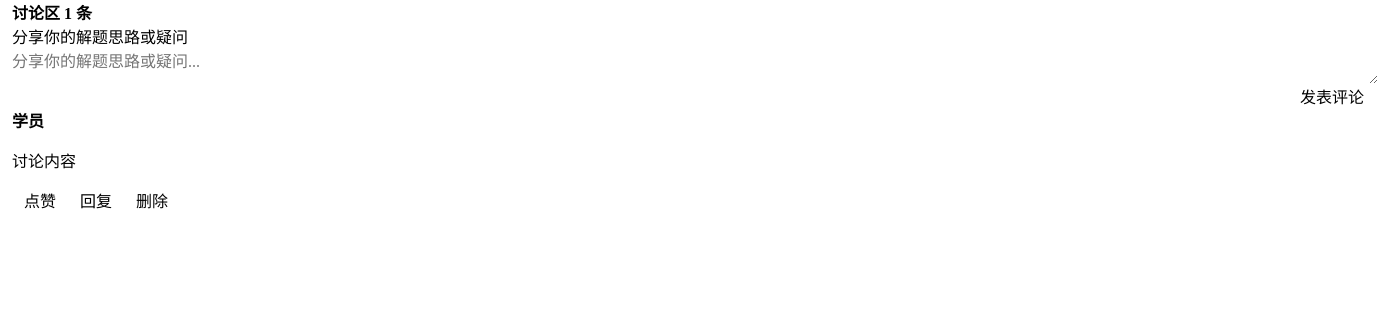
Scenario: CatalogTools › persists likes and waits for confirmation before deleting
Click the button "点赞": (40, 200) [12,188,68,212]
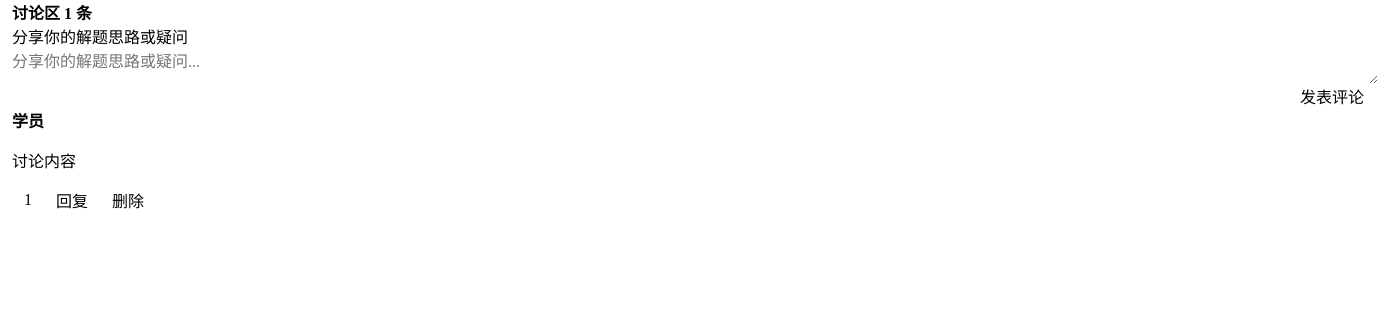
expect the button "1" is shown: met, box [12,191,44,209]
Click the button "删除": (128, 200) [100,188,156,212]
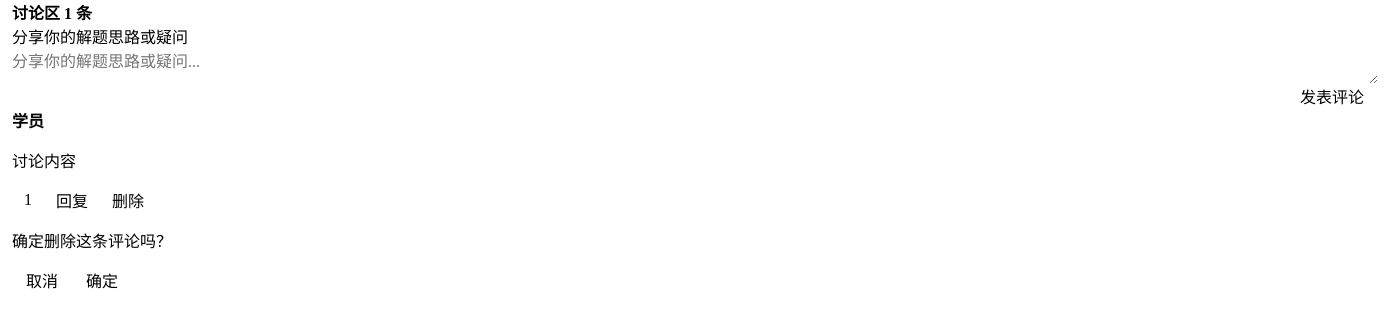
Click the button "确定": (102, 280) [72,268,132,292]
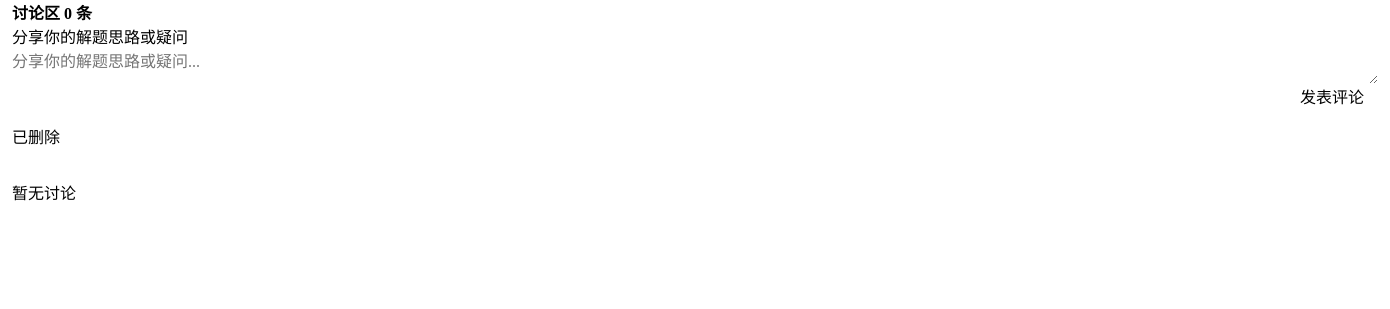
expect the text "讨论内容" is gone: met
